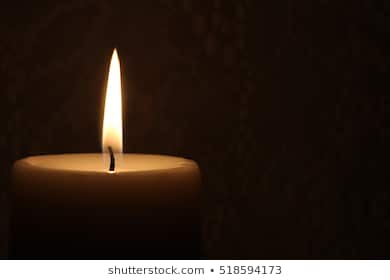Fire: (96, 48, 131, 156)
